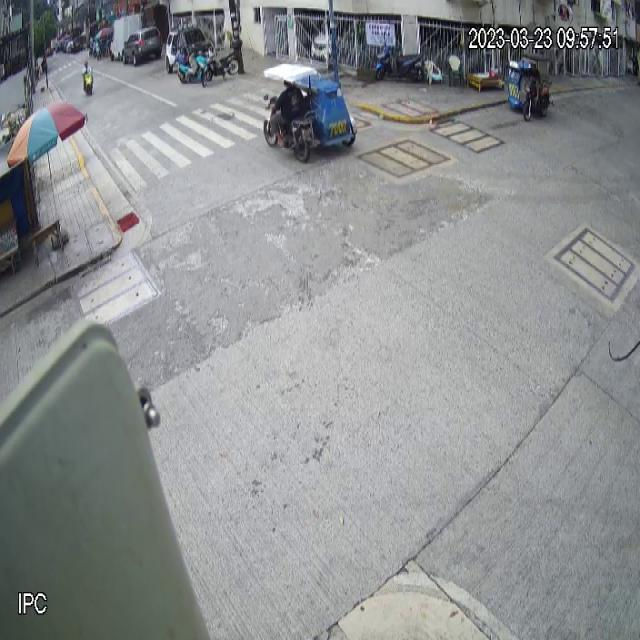Tricycle: (262, 61, 357, 163), (506, 58, 550, 122)
